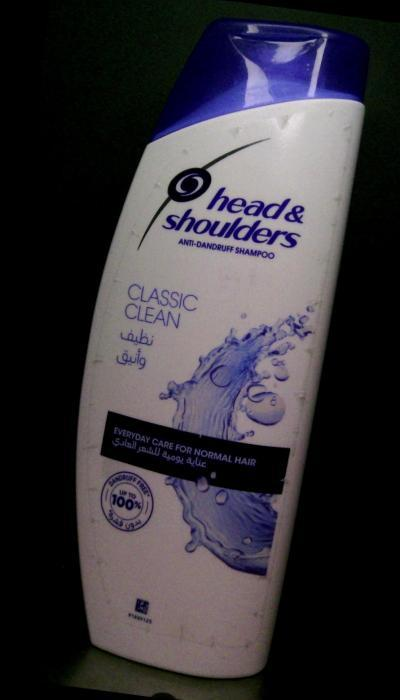tear_marg: (322, 101, 364, 147), (258, 106, 304, 146), (315, 180, 349, 228)
